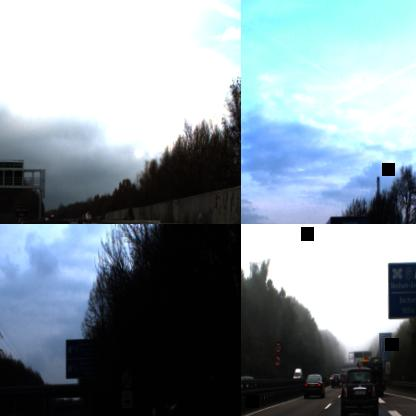no overtaking -trucks-: (272, 353, 281, 367)
restriction ends: (120, 370, 132, 390)
speed limit 120: (274, 340, 282, 353)
